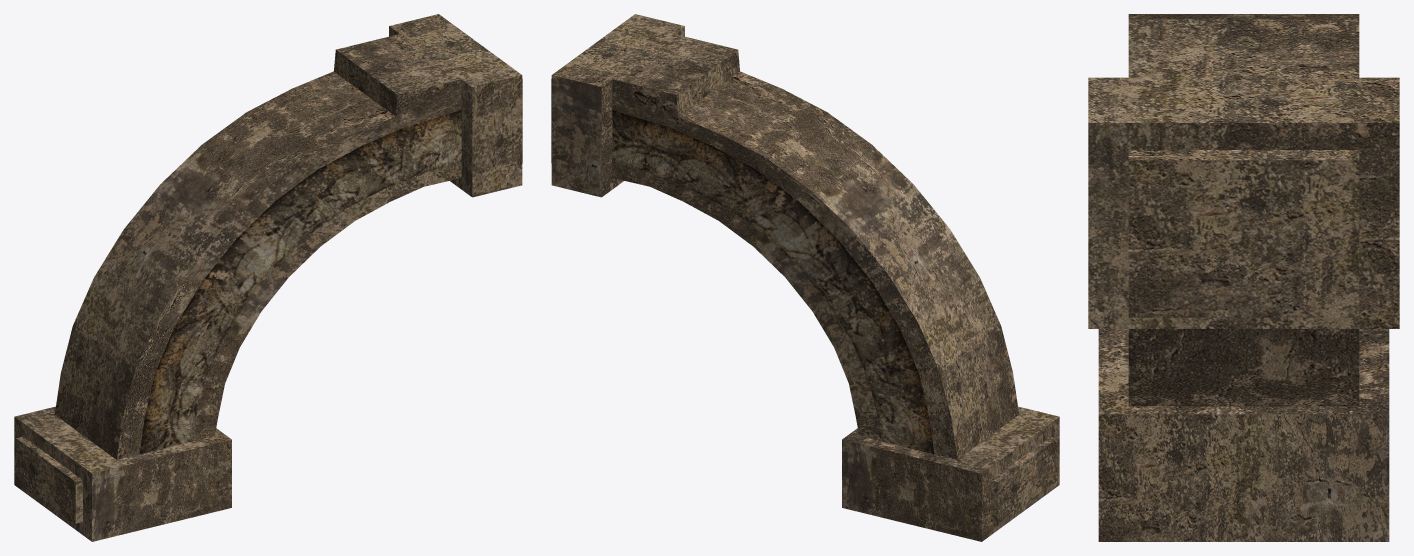
The model's file is materials_5_arch_2.fbx.
The picture shows the model from 3 angles, left to right: view 1: azimuth 30°, elevation 25°; view 2: azimuth 150°, elevation 25°; view 3: azimuth 270°, elevation 25°; orthographic projection. The views are drawn at different scales.
Parts seen in each view (by area): view 1: materials_5_arch_2; view 2: materials_5_arch_2; view 3: materials_5_arch_2.
Boxes of the visible parts, bbox=[...] form: materials_5_arch_2: bbox=[14, 14, 522, 541]; materials_5_arch_2: bbox=[551, 14, 1059, 541]; materials_5_arch_2: bbox=[1088, 14, 1399, 541].
Size of the model in its own units: 125 by 97.86 by 40.56.
